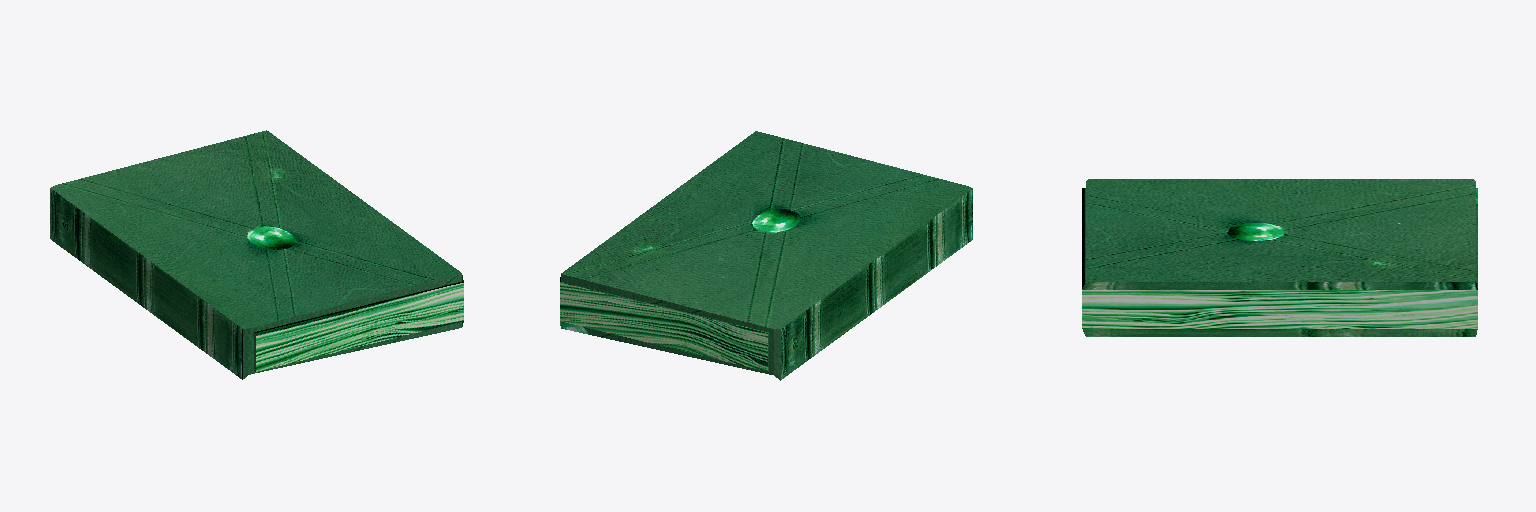
The picture shows the model from 3 angles: view 1: azimuth 30°, elevation 25°; view 2: azimuth 150°, elevation 25°; view 3: azimuth 270°, elevation 25°; orthographic projection.
Parts seen in each view (by area): view 1: Cube; view 2: Cube; view 3: Cube.
Part boxes in pixels (left/top/right/bottom): Cube: left=50, top=130, right=463, bottom=379; Cube: left=560, top=131, right=972, bottom=380; Cube: left=1082, top=179, right=1477, bottom=336.
Size of the model in its own units: 1.96 by 0.4701 by 3.08.
Materials: 1 (1 with a texture image).